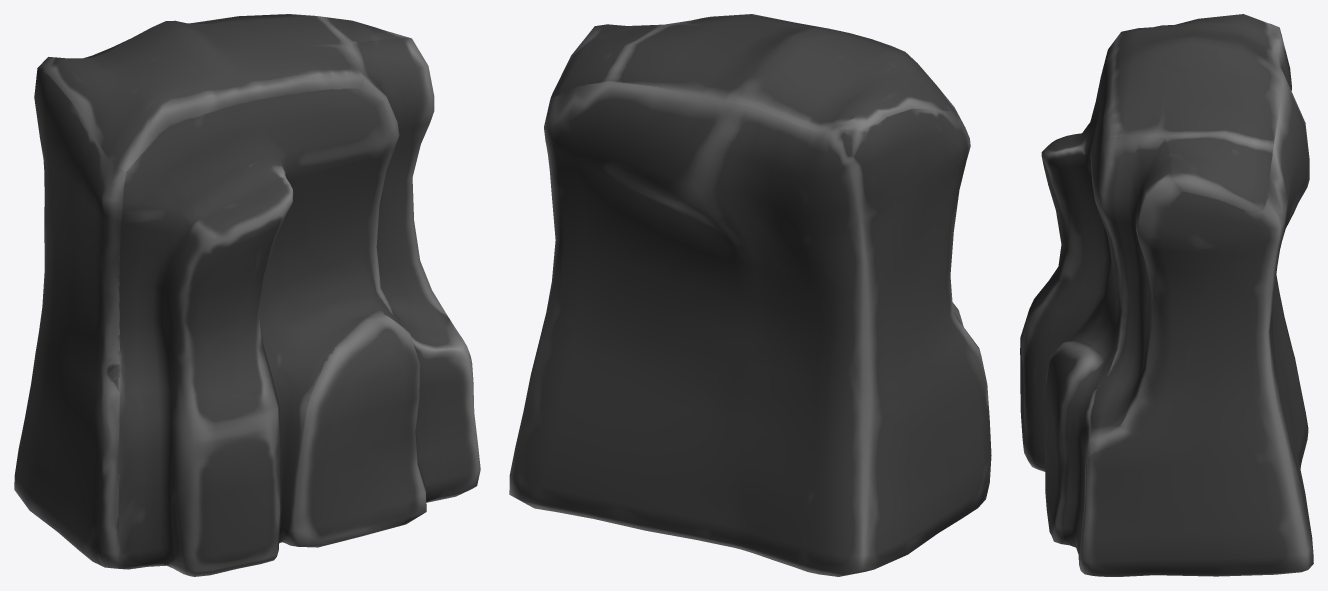
The model's file is CTS_E_CliffCapC.fbx.
3 views of the same model, side by side, from view 1: azimuth 30°, elevation 25°; view 2: azimuth 150°, elevation 25°; view 3: azimuth 270°, elevation 25° (orthographic). The views are drawn at different scales.
Visible parts, largest first — view 1: CTS_E_CliffCapC; view 2: CTS_E_CliffCapC; view 3: CTS_E_CliffCapC.
Boxes of the visible parts, bbox=[...] form: CTS_E_CliffCapC: bbox=[14, 14, 480, 576]; CTS_E_CliffCapC: bbox=[509, 14, 991, 576]; CTS_E_CliffCapC: bbox=[1020, 14, 1313, 576].
Size of the model in its own units: 3671 by 4449 by 2672.
